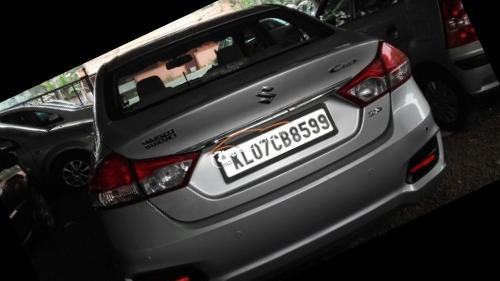plate: (201, 92, 351, 196)
